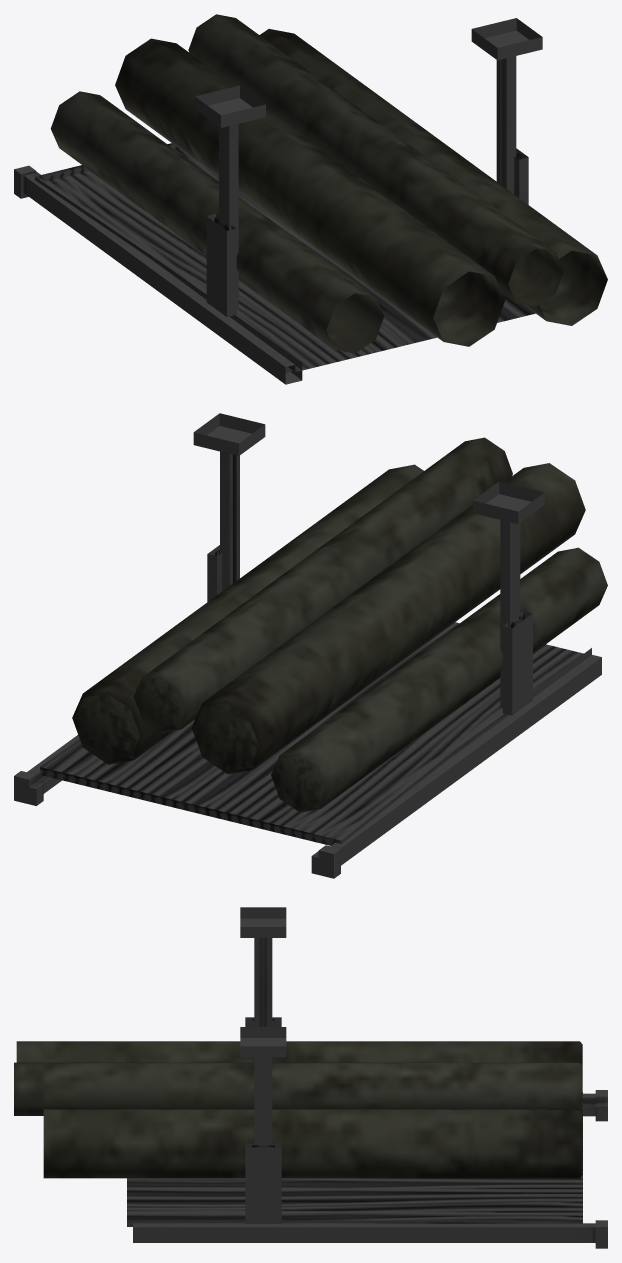
File: ceiling_pipes_right_end.fbx
The picture shows the model from 3 angles, top to bottom: view 1: azimuth 30°, elevation 25°; view 2: azimuth 150°, elevation 25°; view 3: azimuth 270°, elevation 25°; orthographic projection. The views are drawn at different scales.
Visible parts, largest first — view 1: ceiling_pipes_right_end; view 2: ceiling_pipes_right_end; view 3: ceiling_pipes_right_end.
Part boxes in pixels (left/top/right/bottom): ceiling_pipes_right_end: left=14, top=14, right=607, bottom=384; ceiling_pipes_right_end: left=14, top=413, right=607, bottom=878; ceiling_pipes_right_end: left=14, top=907, right=607, bottom=1248.
Size of the model in its own units: 65.58 by 44.92 by 119.
